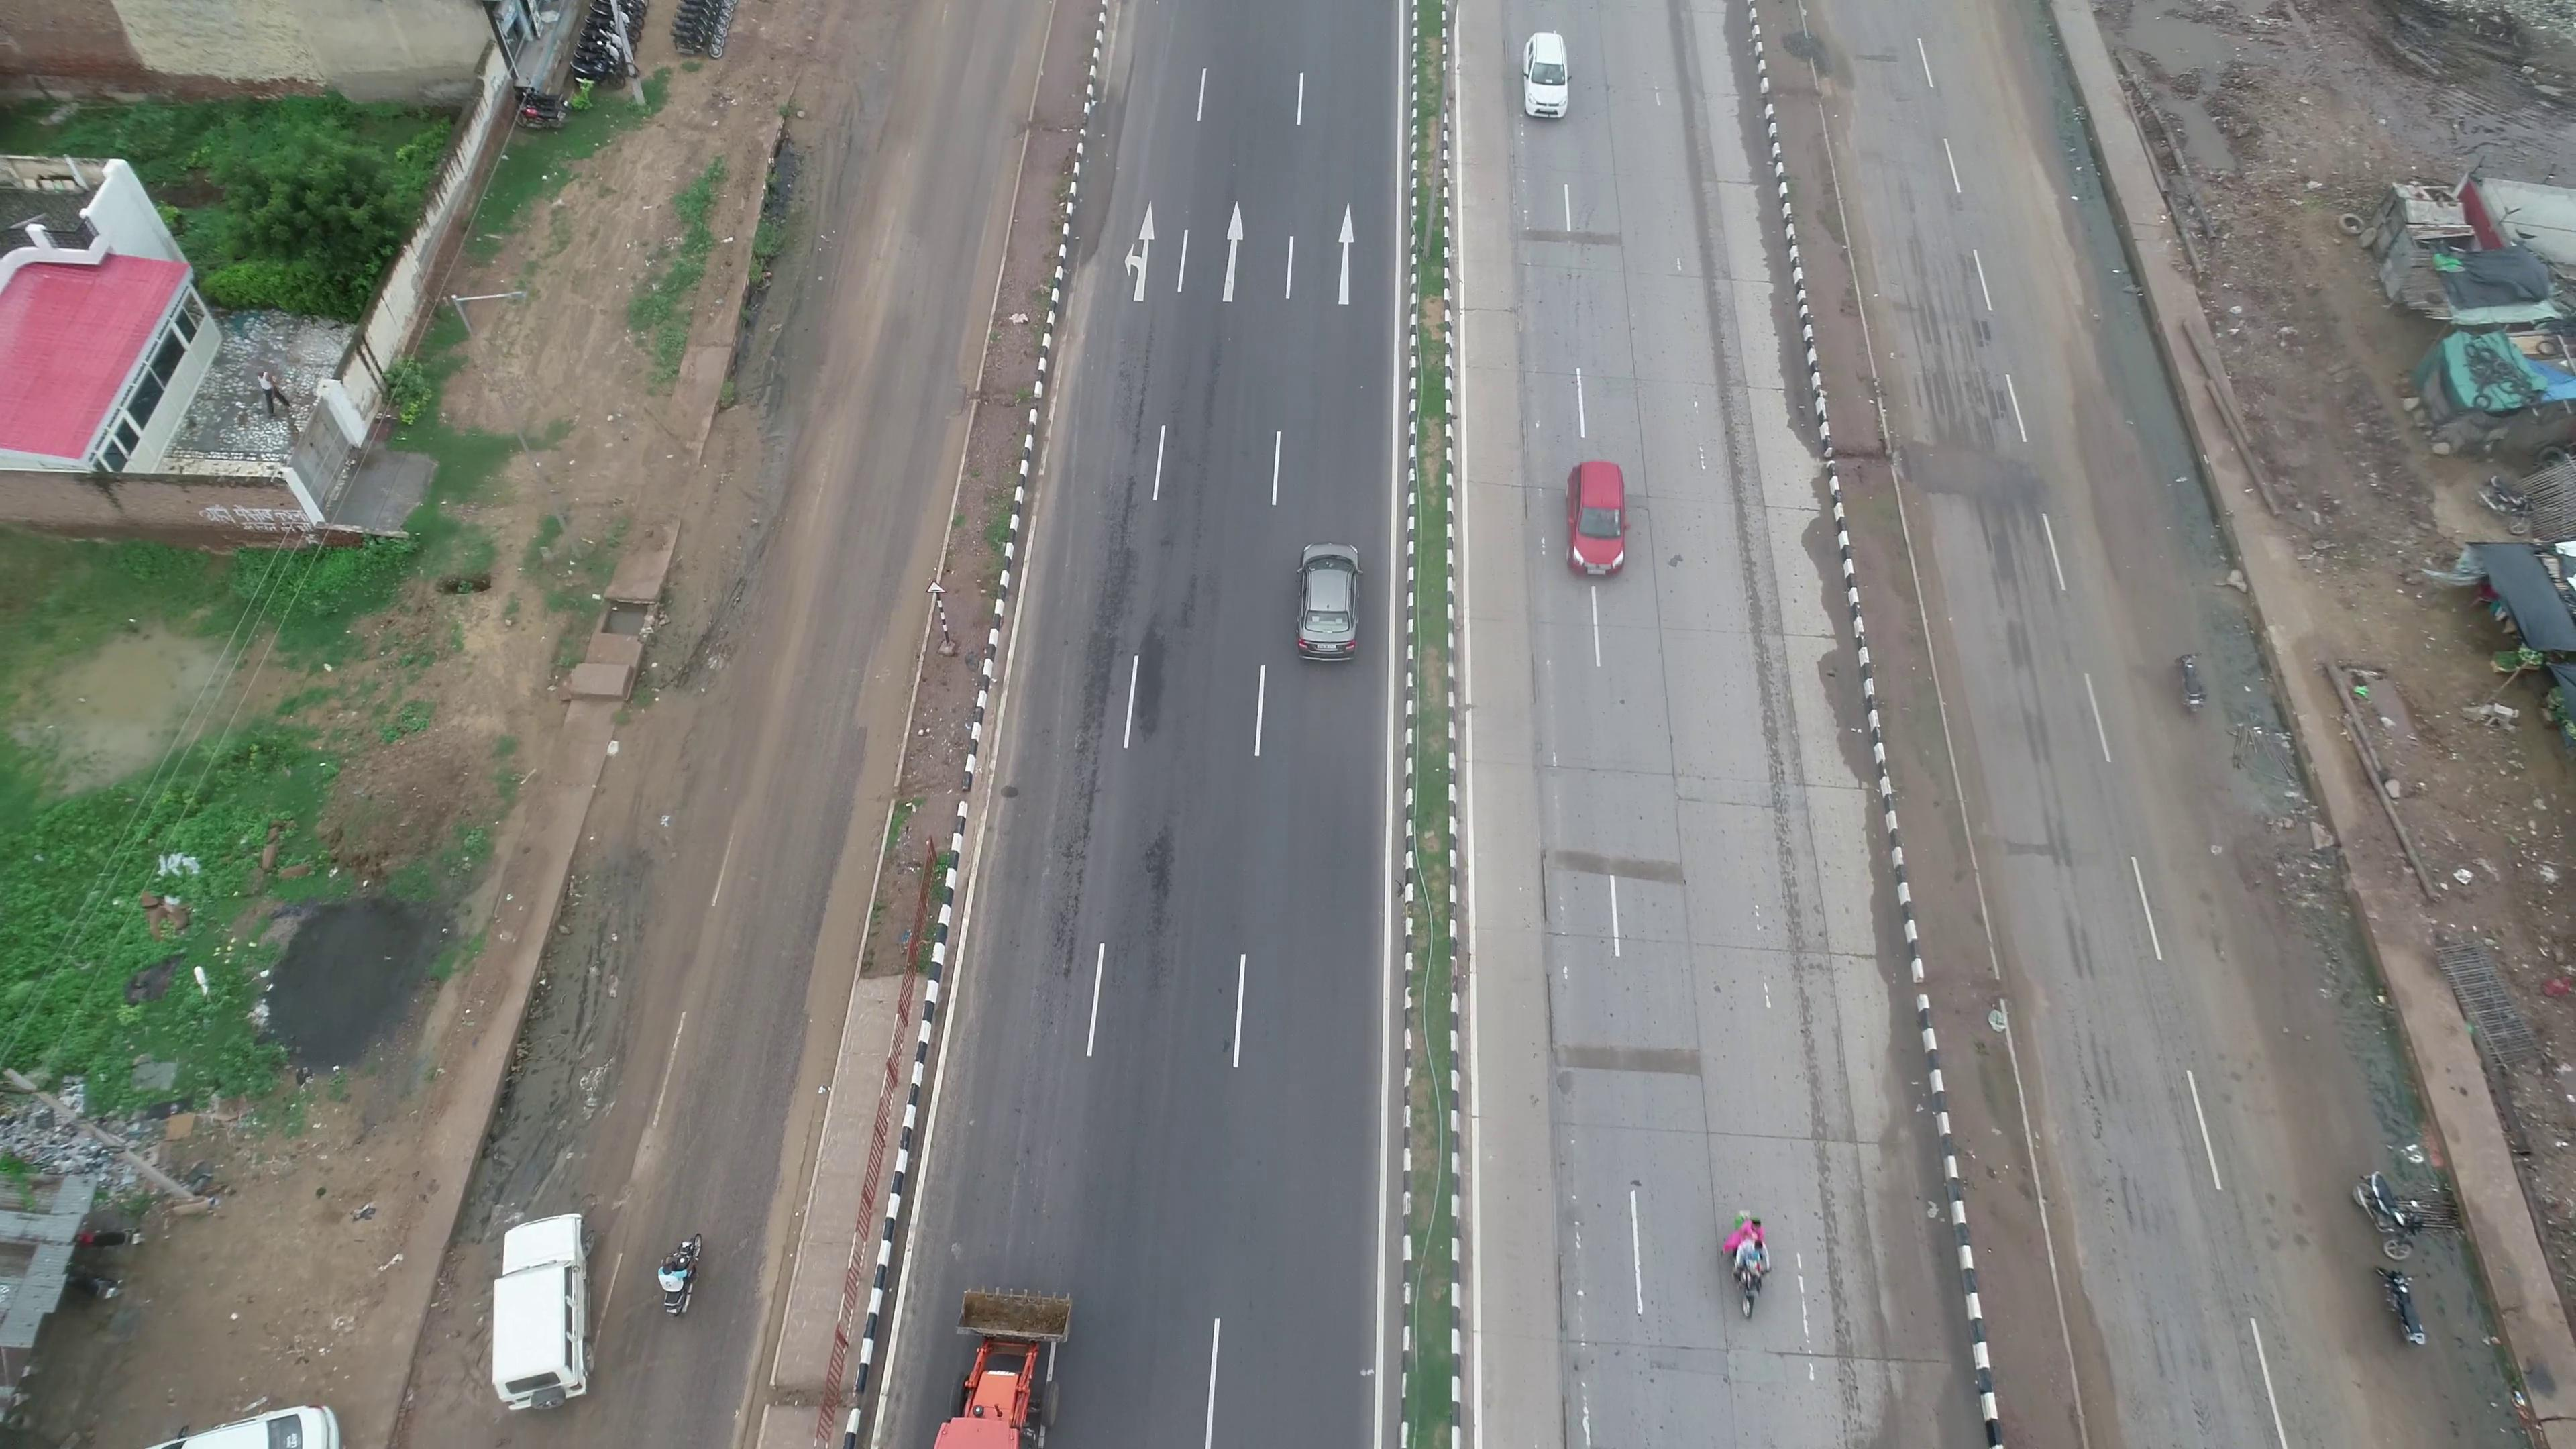Ravelling: (1037, 504, 1131, 961)
